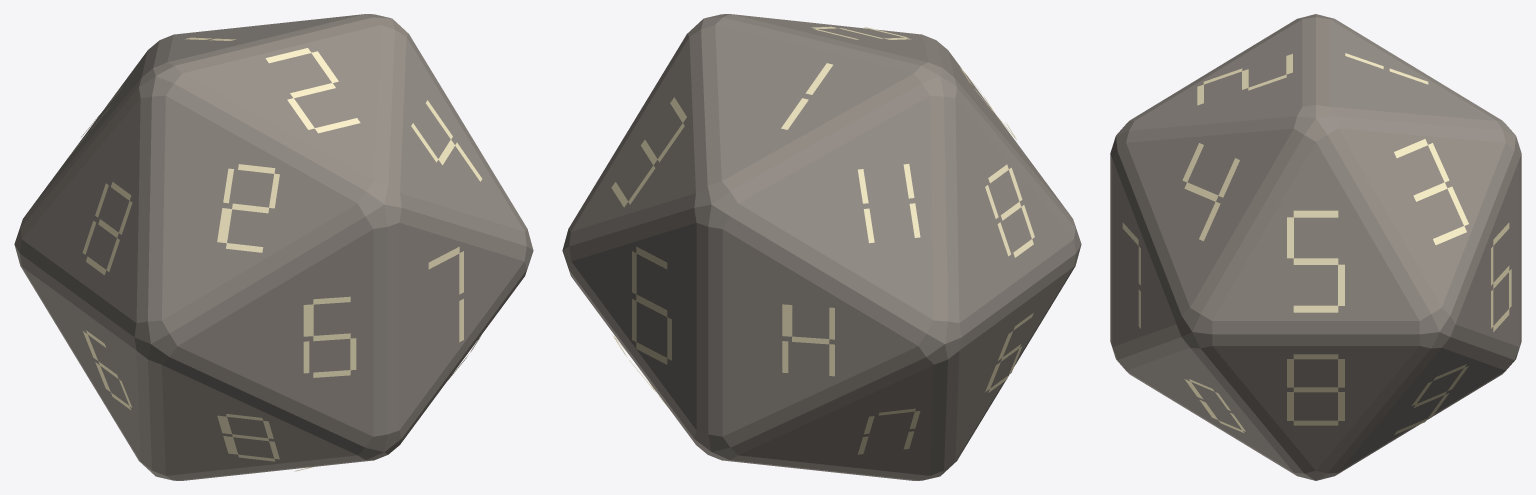
3 views of the same model, side by side, from view 1: azimuth 30°, elevation 25°; view 2: azimuth 150°, elevation 25°; view 3: azimuth 270°, elevation 25° (orthographic). The views are drawn at different scales.
Visible parts, largest first — view 1: RenderMesh, GlyphMesh; view 2: RenderMesh, GlyphMesh; view 3: RenderMesh, GlyphMesh.
Part boxes in pixels (x1,y1,x2,y2): RenderMesh: [14, 14, 533, 480]; GlyphMesh: [68, 37, 482, 471]; RenderMesh: [562, 14, 1081, 480]; GlyphMesh: [611, 26, 1034, 454]; RenderMesh: [1110, 14, 1521, 480]; GlyphMesh: [1122, 53, 1511, 434].
Size of what is drawn, in the model's own units: 0.03 by 0.03 by 0.03.
